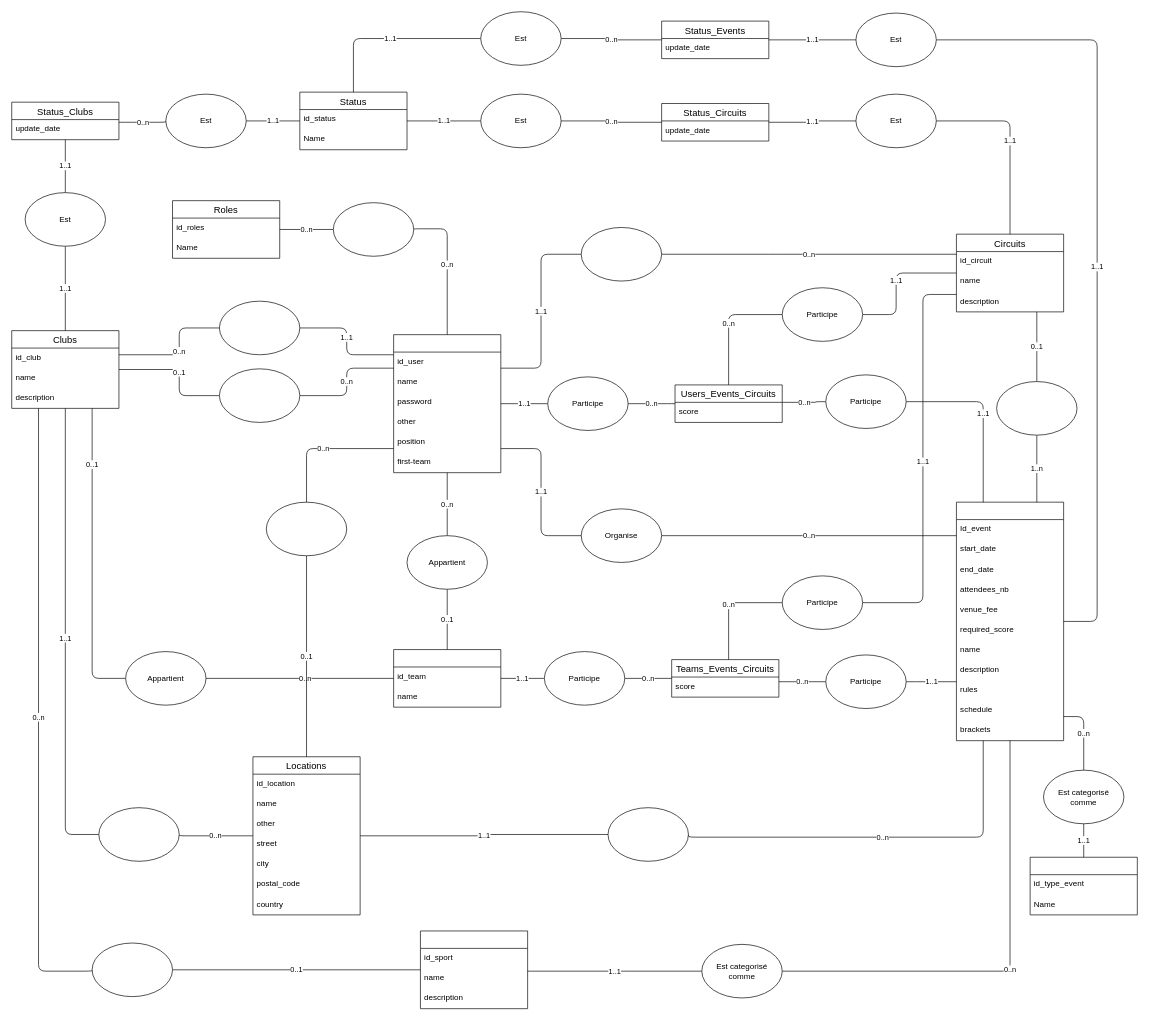
Some shapes in this 1149 by 1022 pixel diagram are drawn without their labels. Each missing label, with the box of its shape:
Adhère: (219, 368, 300, 422)
Est situé: (607, 807, 688, 861)
Events: (956, 501, 1064, 741)
Gère: (219, 300, 300, 355)
Habite: (266, 501, 347, 556)
Inclut: (996, 381, 1077, 435)
Occupe: (98, 807, 179, 861)
Orgainse: (581, 227, 662, 281)
Possède: (333, 202, 414, 256)
Pratique: (91, 942, 173, 997)
Sports: (420, 930, 528, 1009)
Teams: (393, 649, 501, 707)
Type_events: (1029, 857, 1137, 915)
Users: (393, 334, 501, 473)
